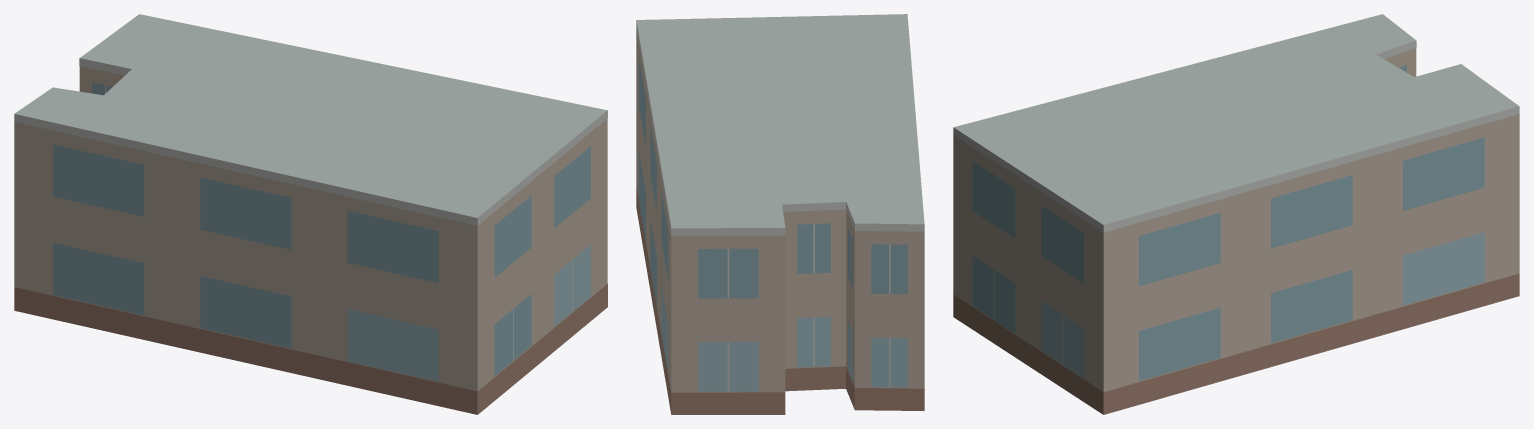
File: survey-upis-32753116.glb
The picture shows the model from 3 angles, left to right: view 1: azimuth 30°, elevation 25°; view 2: azimuth 150°, elevation 25°; view 3: azimuth 270°, elevation 25°; orthographic projection. The views are drawn at different scales.
Visible parts, largest first — view 1: survey-upis-32753116.tmp; view 2: survey-upis-32753116.tmp; view 3: survey-upis-32753116.tmp.
Boxes of the visible parts, x1,y1,x2,y2 form: survey-upis-32753116.tmp: (14, 14, 607, 414); survey-upis-32753116.tmp: (636, 14, 924, 414); survey-upis-32753116.tmp: (953, 14, 1519, 414).
Size of the model in its own units: 14.56 by 6.1 by 16.5.
